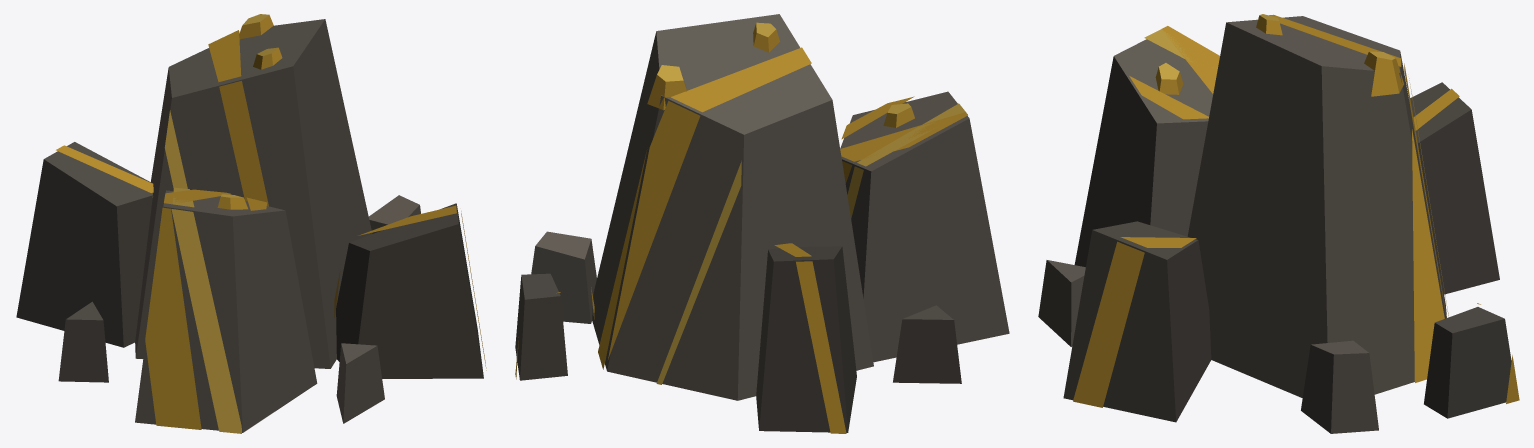
The model's file is gold-deposit.glb.
3 views of the same model, side by side, from view 1: azimuth 30°, elevation 25°; view 2: azimuth 150°, elevation 25°; view 3: azimuth 270°, elevation 25° (orthographic). The views are drawn at different scales.
Visible parts, largest first — view 1: gold-deposit; view 2: gold-deposit; view 3: gold-deposit.
Part boxes in pixels (<box>): gold-deposit: <box>16,14,486,433</box>; gold-deposit: <box>515,14,1009,433</box>; gold-deposit: <box>1038,14,1519,433</box>.
Bounding box in the file's own units: 1.76 × 1.26 × 1.72.
